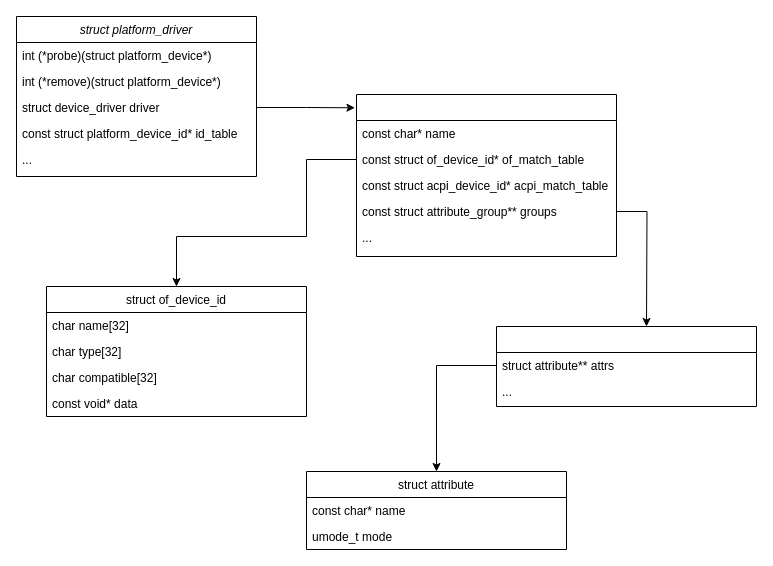
The diagram is 773 pixels wide and 566 high, and some of its shapes have lost their labels. Here are the shapes that lost their labels. From the top down, the box of each, then its label:
(356, 94, 616, 256): struct device_driver
(496, 326, 756, 406): struct attribute_group
